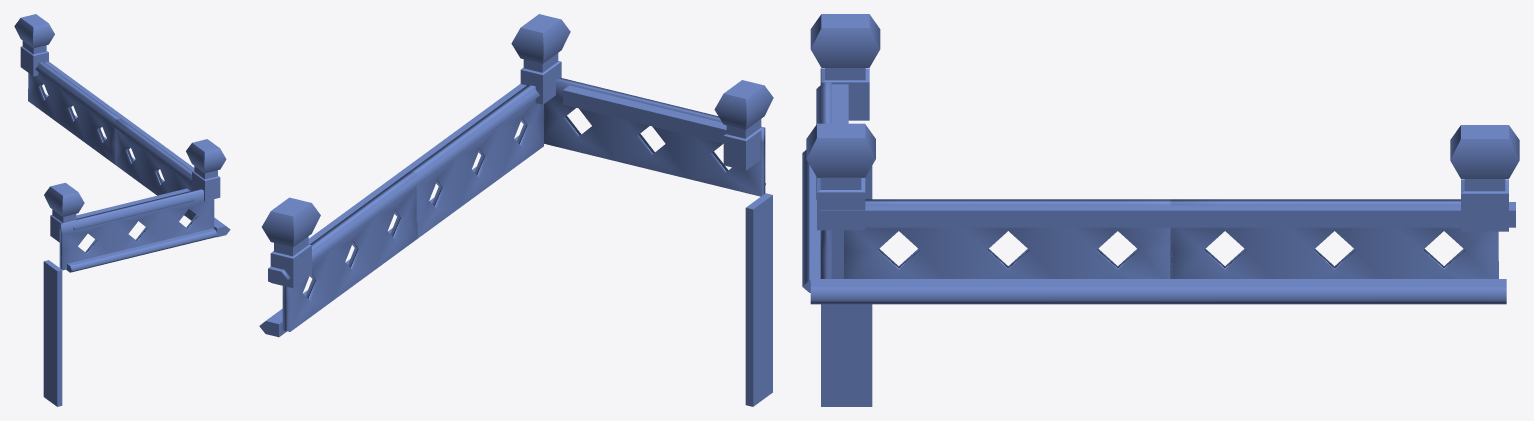
The model's file is Cupboard_08B_Lod0.fbx.
3 views of the same model, side by side, from view 1: azimuth 30°, elevation 25°; view 2: azimuth 150°, elevation 25°; view 3: azimuth 270°, elevation 25° (orthographic). The views are drawn at different scales.
Parts seen in each view (by area): view 1: Cupboard_08B_Lod0; view 2: Cupboard_08B_Lod0; view 3: Cupboard_08B_Lod0.
Part boxes in pixels (x1,y1,x2,y2): Cupboard_08B_Lod0: (14,14,230,406); Cupboard_08B_Lod0: (259,14,773,406); Cupboard_08B_Lod0: (802,14,1519,406).
Size of the model in its own units: 47.75 by 58.83 by 92.71.
